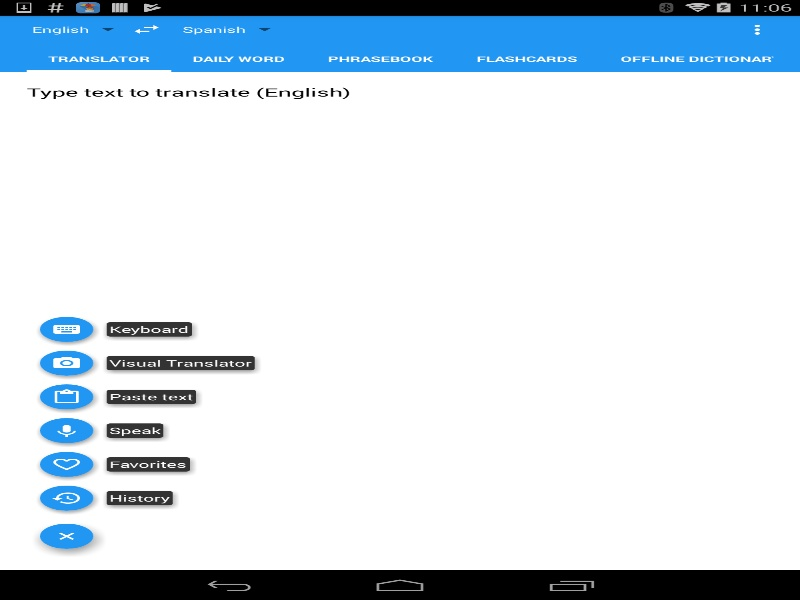Button: (26, 515, 106, 557), (33, 312, 100, 346), (33, 346, 100, 380), (33, 413, 100, 447), (33, 447, 100, 481), (33, 481, 100, 515), (33, 380, 100, 413), (130, 21, 162, 36)
Input: (26, 84, 754, 165)
